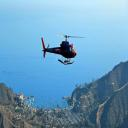helicopter: (42, 32, 87, 66)
